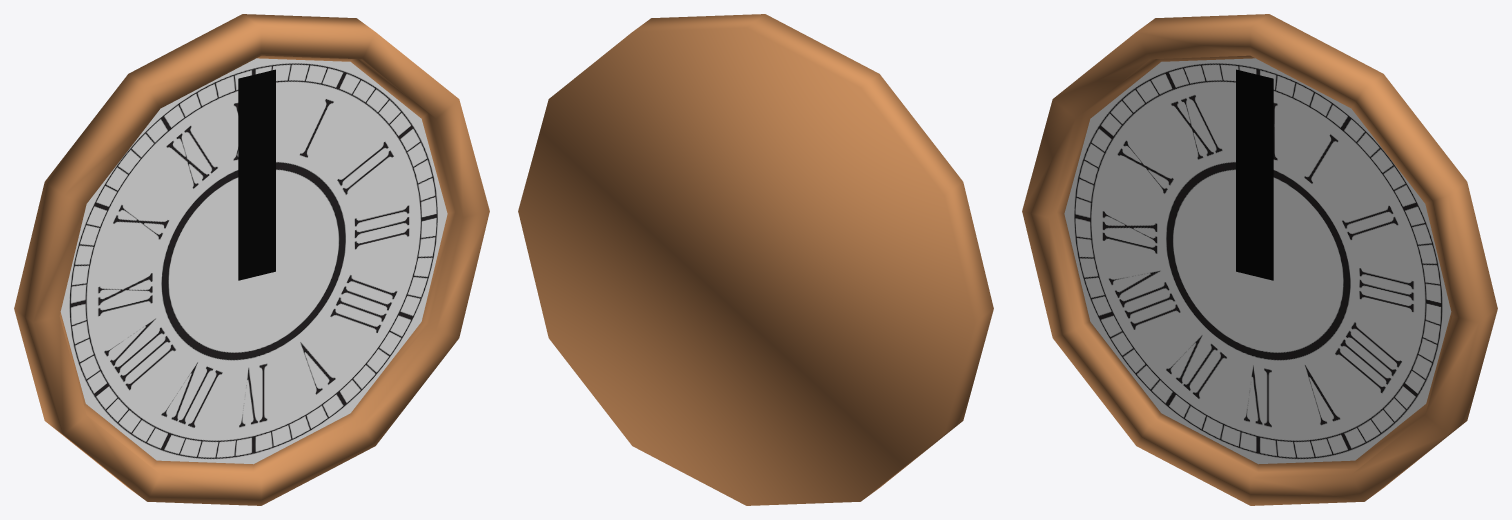
Rendered from reloj_analogico.fbx.
The picture shows the model from 3 angles, left to right: view 1: azimuth 30°, elevation 25°; view 2: azimuth 150°, elevation 25°; view 3: azimuth 330°, elevation 25°; orthographic projection.
Visible parts, largest first — view 1: Reloj, Reloj_seg; view 2: Reloj; view 3: Reloj, Reloj_seg.
Part boxes in pixels (x1=…): Reloj: x1=14, y1=14, x2=489, y2=505; Reloj_seg: x1=238, y1=69, x2=275, y2=280; Reloj: x1=518, y1=14, x2=993, y2=505; Reloj: x1=1022, y1=14, x2=1497, y2=505; Reloj_seg: x1=1236, y1=69, x2=1273, y2=280.
Bounding box in the file's own units: 32.06 × 32.06 × 2.31.
